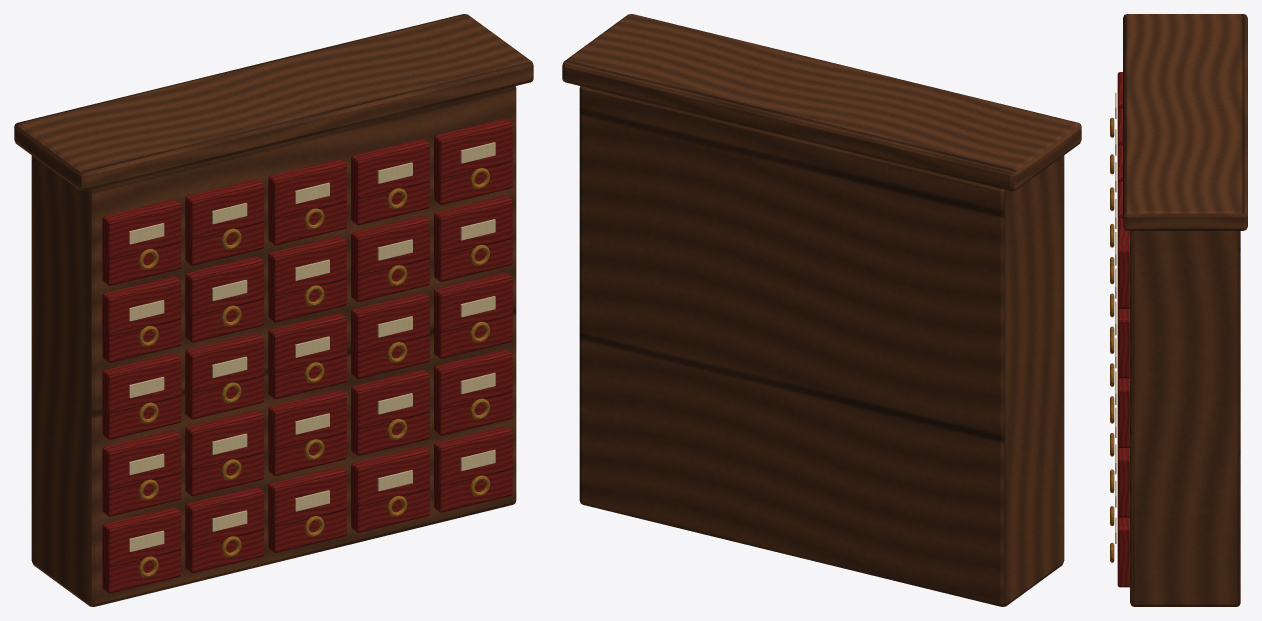
Rendered from herb_cabinet.glb.
The picture shows the model from 3 angles, left to right: view 1: azimuth 30°, elevation 25°; view 2: azimuth 150°, elevation 25°; view 3: azimuth 270°, elevation 25°; orthographic projection. The views are drawn at different scales.
Visible parts, largest first — view 1: herb_cabinet_Lacquer, herb_cabinet_Walnut, herb_cabinet_Paper, herb_cabinet_Brass; view 2: herb_cabinet_Walnut; view 3: herb_cabinet_Walnut, herb_cabinet_Lacquer, herb_cabinet_Brass, herb_cabinet_Paper.
Boxes of the visible parts, <box> form: herb_cabinet_Lacquer: <box>102,118,512,593</box>; herb_cabinet_Walnut: <box>14,14,533,606</box>; herb_cabinet_Paper: <box>129,142,495,551</box>; herb_cabinet_Brass: <box>138,168,489,577</box>; herb_cabinet_Walnut: <box>562,14,1081,606</box>; herb_cabinet_Walnut: <box>1123,14,1247,606</box>; herb_cabinet_Lacquer: <box>1117,72,1129,587</box>; herb_cabinet_Brass: <box>1110,117,1114,562</box>; herb_cabinet_Paper: <box>1115,92,1116,543</box>.
Size of the model in its own units: 2.66 by 2.48 by 0.772.
Materials: 4 (4 with a texture image).
